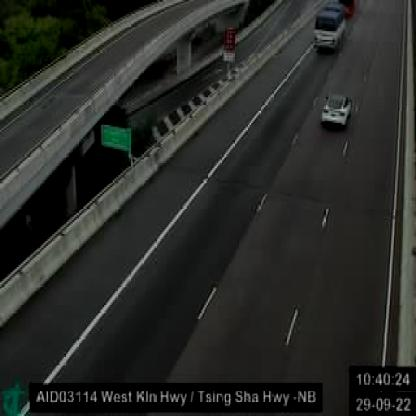Car: (316, 82, 359, 148), (308, 0, 350, 61)
